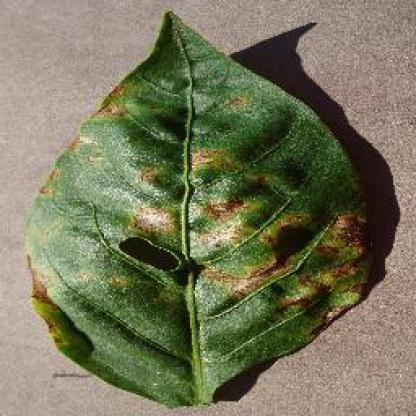bad leaf: (63, 11, 367, 412), (85, 67, 404, 314), (11, 119, 398, 246), (9, 201, 352, 344), (40, 87, 189, 328), (233, 129, 339, 298)
